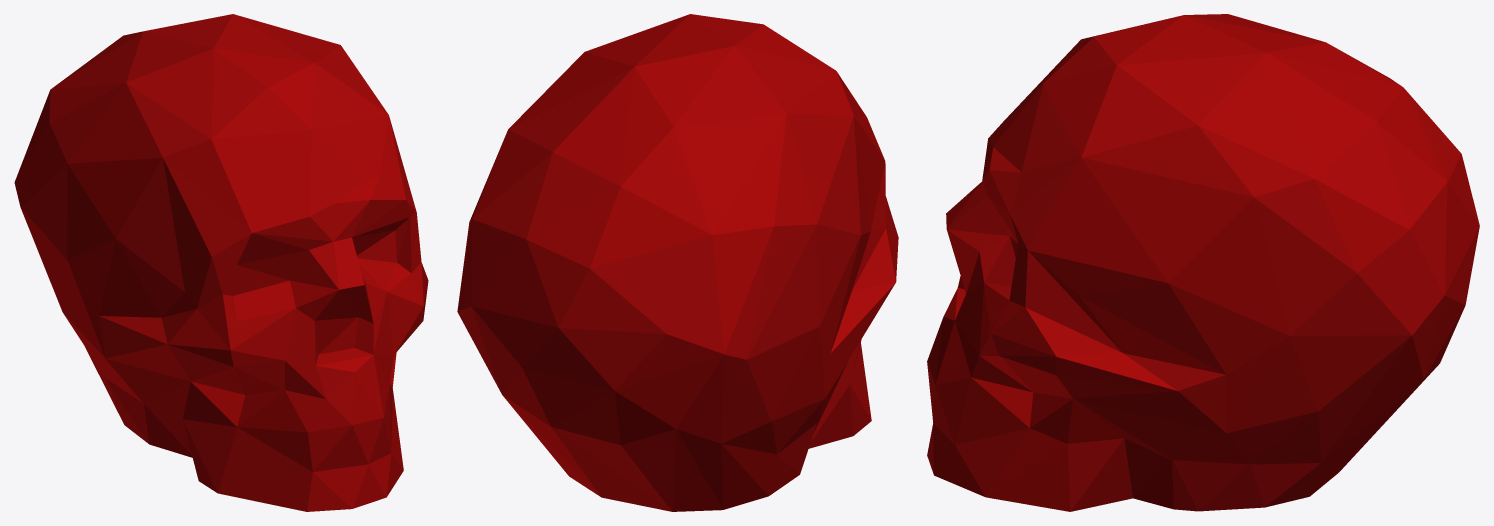
Rendered from skull.obj.
The picture shows the model from 3 angles, left to right: view 1: azimuth 30°, elevation 25°; view 2: azimuth 150°, elevation 25°; view 3: azimuth 270°, elevation 25°; orthographic projection. The views are drawn at different scales.
Visible parts, largest first — view 1: Lowpolyskulllisa; view 2: Lowpolyskulllisa; view 3: Lowpolyskulllisa.
Boxes of the visible parts, bbox=[...] form: Lowpolyskulllisa: bbox=[14, 14, 428, 511]; Lowpolyskulllisa: bbox=[457, 14, 898, 511]; Lowpolyskulllisa: bbox=[927, 14, 1479, 511].
Size of the model in its own units: 4.15 by 5.3 by 6.2.
